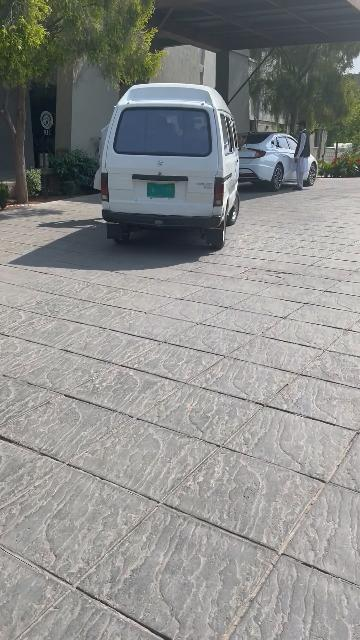plate: (143, 180, 177, 200)
